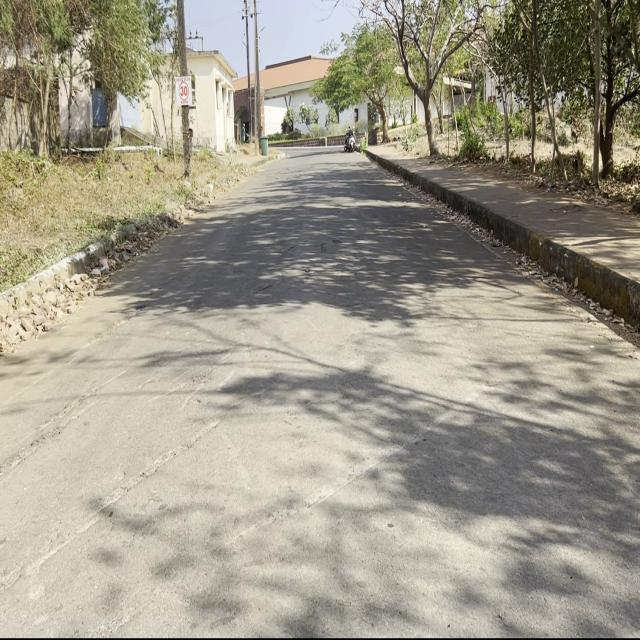Road: (5, 154, 635, 633)
